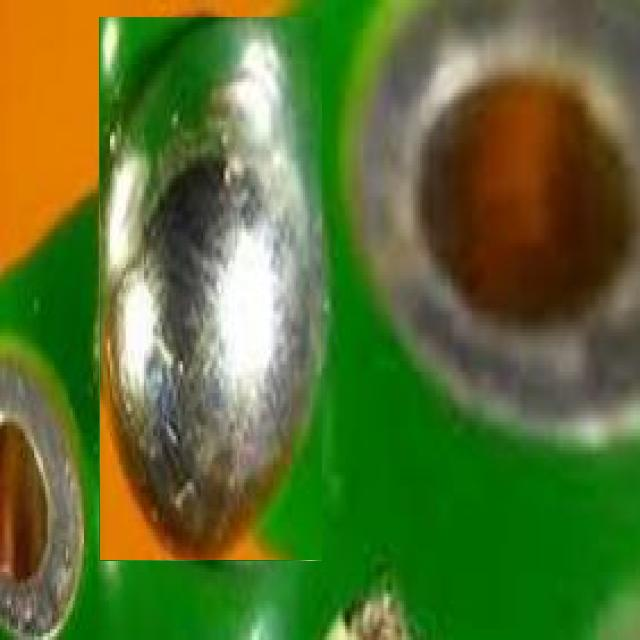redundant: (99, 18, 322, 559)
